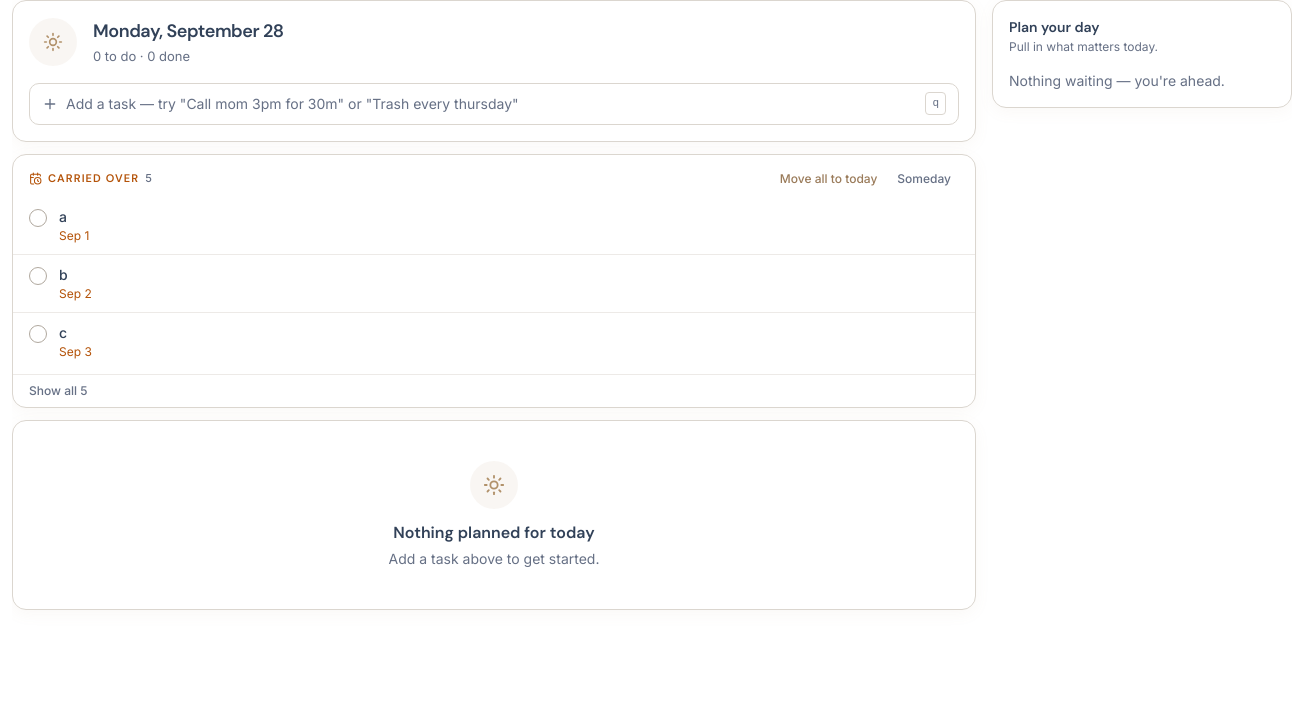
Scenario: TodayView › keeps a long carried-over pile from burying today's plan
Check: the number of list items is 3, box [13,196,975,254]; [13,254,975,312]; [13,312,975,370]
Click the button "Show all 5": click(58, 391) [13,374,975,407]
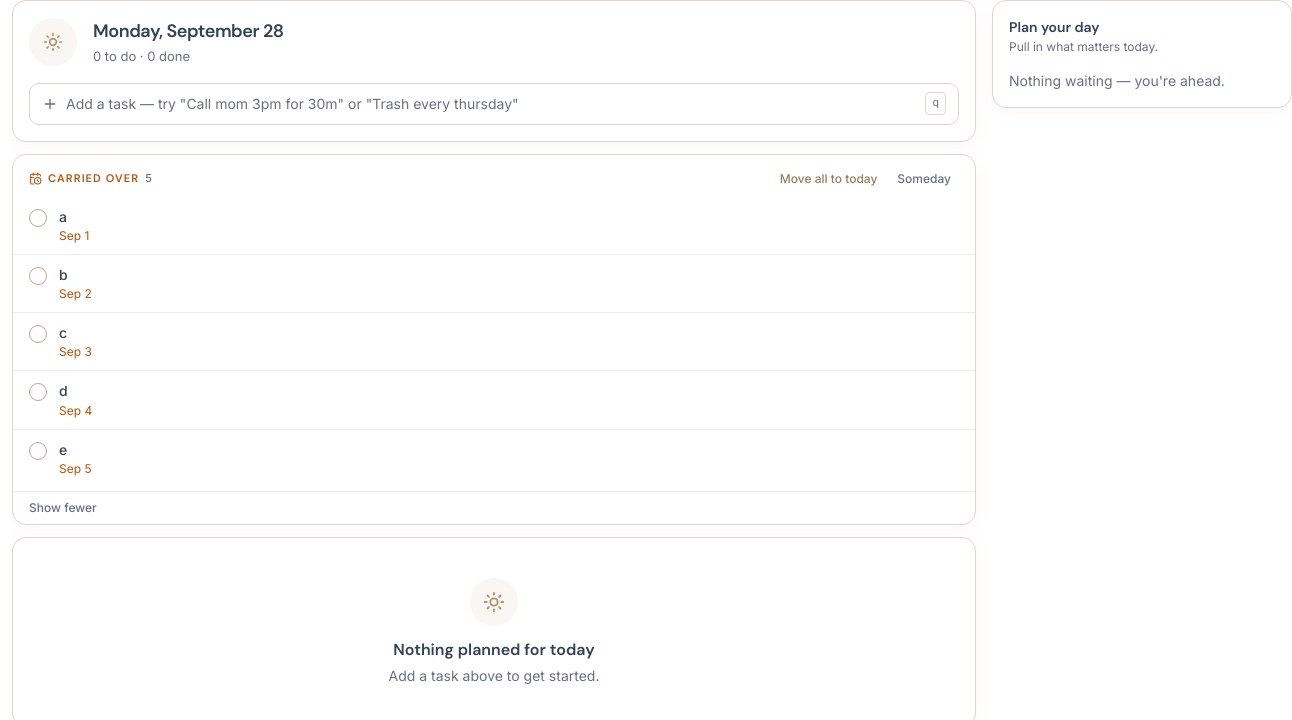
Check: the number of list items is 5, box [13,196,975,254]; [13,254,975,312]; [13,312,975,370]; [13,370,975,429]; [13,428,975,487]
